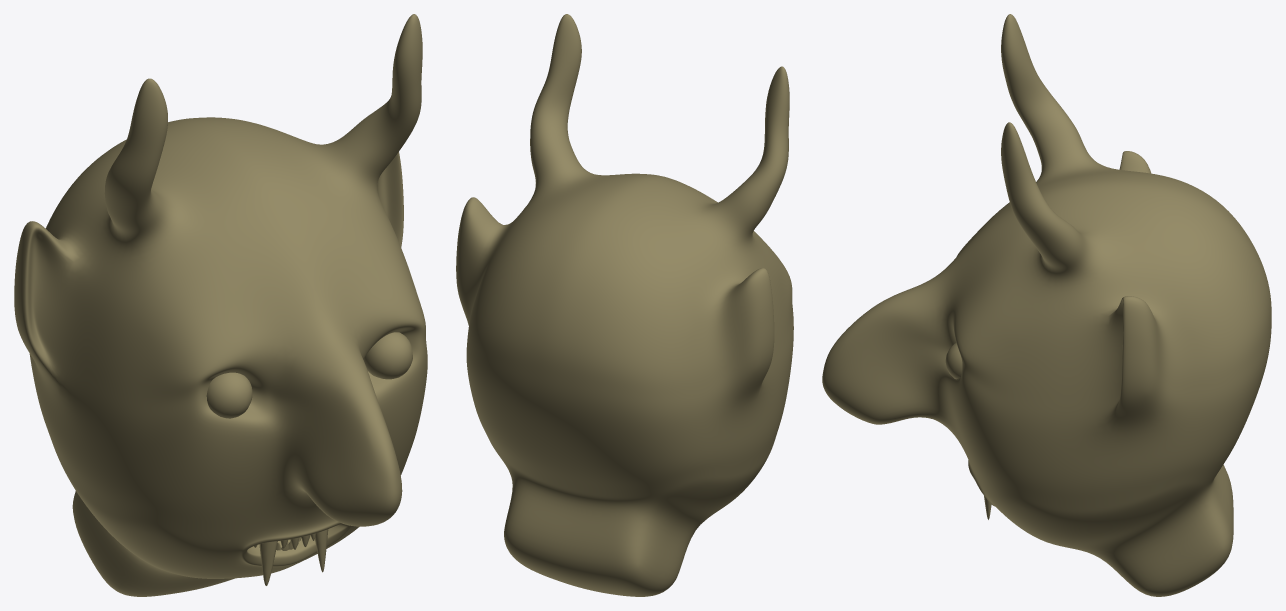
Rendered from rosen.glb.
3 renders of one model, left to right at view 1: azimuth 30°, elevation 25°; view 2: azimuth 150°, elevation 25°; view 3: azimuth 270°, elevation 25°, orthographic. The views are drawn at different scales.
Parts seen in each view (by area): view 1: Cube.001; view 2: Cube.001; view 3: Cube.001.
Boxes of the visible parts, <box> form: Cube.001: <box>14,14,427,596</box>; Cube.001: <box>456,14,793,596</box>; Cube.001: <box>822,14,1271,596</box>.
Size of the model in its own units: 0.6812 by 1.03 by 0.8274.
